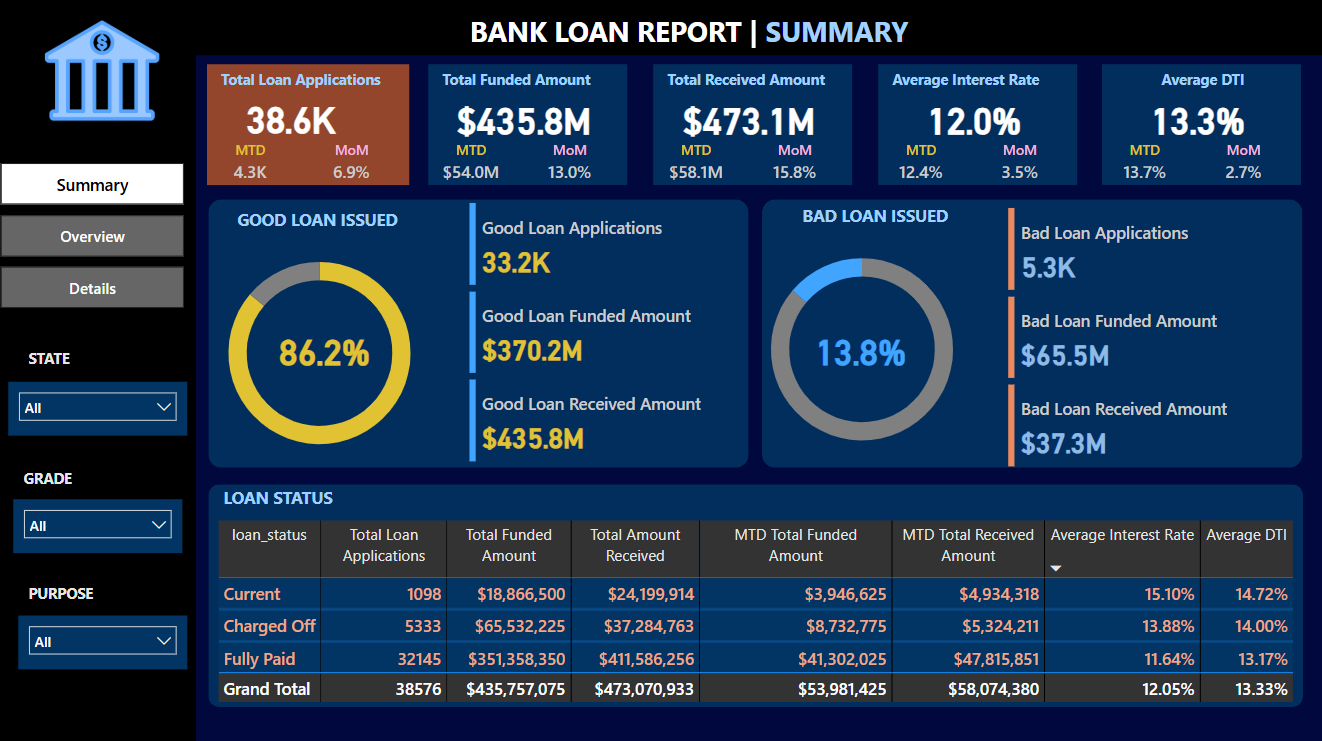

This screenshot's page, from the dashboard's own definition file:
{"tool":"powerbi","page":{"name":"Summary","canvas":[1280,720],"ordinal":0},"visuals":[{"type":"shape","box":[202.8,64.3,195.2,116.7],"z":0,"group":"g1"},{"type":"shape","box":[416,64.3,192.3,116.7],"z":0,"group":"g2"},{"type":"shape","box":[633,64.3,192.3,116.7],"z":0,"group":"g3"},{"type":"shape","box":[850,64.3,192.3,116.7],"z":0,"group":"g4"},{"type":"shape","box":[1066.9,64.4,192.3,116.7],"z":0,"group":"g5"},{"type":"shape","box":[203.6,194,521.4,259.5],"z":0},{"type":"shape","box":[0,0,1280,55.5],"z":1000},{"type":"card","fields":{"Values":["Measure Table.Total Loan Applications"]},"box":[167.9,85.4,232.1,61.9],"z":1000,"group":"g1"},{"type":"card","fields":{"Values":["Measure Table.Total Funded Amount"]},"box":[394.3,86.6,228.6,61.9],"z":1000,"group":"g2"},{"type":"card","fields":{"Values":["Measure Table.Total Amount Received"]},"box":[611.3,86.6,228.6,61.9],"z":1000,"group":"g3"},{"type":"card","fields":{"Values":["Measure Table.Average Interest Rate"]},"box":[828.3,86.6,228.6,61.9],"z":1000,"group":"g4"},{"type":"card","fields":{"Values":["Measure Table.Average DTI"]},"box":[1045.2,86.7,228.6,61.9],"z":1000,"group":"g5"},{"type":"shape","box":[0,55.5,192,665],"z":2000},{"type":"textbox","box":[211.2,64.3,195.2,34.5],"z":2000,"group":"g1"},{"type":"textbox","box":[424.2,64.3,192.3,34.5],"z":2000,"group":"g2"},{"type":"textbox","box":[641.2,64.3,192.3,34.5],"z":2000,"group":"g3"},{"type":"textbox","box":[858.2,64.3,192.3,34.5],"z":2000,"group":"g4"},{"type":"textbox","box":[1075.1,64.4,192.3,34.5],"z":2000,"group":"g5"},{"type":"card","title":"MTD","fields":{"Values":["Measure Table.MTD Loan Applications"]},"box":[211.2,138.1,66.7,42.9],"z":3000,"group":"g1"},{"type":"card","title":"MTD","fields":{"Values":["Measure Table.MTD Total Funded Amount"]},"box":[424.2,138.1,65.7,42.9],"z":3000,"group":"g2"},{"type":"card","title":"MTD","fields":{"Values":["Measure Table.MTD Total Received Amount"]},"box":[641.2,138.1,65.7,42.9],"z":3000,"group":"g3"},{"type":"card","title":"MTD","fields":{"Values":["Measure Table.MTD Interest Rate"]},"box":[858.2,138.1,65.7,42.9],"z":3000,"group":"g4"},{"type":"card","title":"MTD","fields":{"Values":["Measure Table.MTD Average DTI"]},"box":[1075.1,138.2,65.7,42.9],"z":3000,"group":"g5"},{"type":"textbox","box":[20.2,344,183.3,34.5],"z":3000},{"type":"card","title":"MoM","fields":{"Values":["Measure Table.MoM Loan Applications"]},"box":[308.8,138.1,66.7,42.9],"z":4000,"group":"g1"},{"type":"card","title":"MoM","fields":{"Values":["Measure Table.MoM Funded Amount"]},"box":[520.4,138.1,65.7,42.9],"z":4000,"group":"g2"},{"type":"card","title":"MoM","fields":{"Values":["Measure Table.MoM Received Amount"]},"box":[737.4,138.1,65.7,42.9],"z":4000,"group":"g3"},{"type":"card","title":"MoM","fields":{"Values":["Measure Table.MoM Interest Rate"]},"box":[954.4,138.1,65.7,42.9],"z":4000,"group":"g4"},{"type":"card","title":"MoM","fields":{"Values":["Measure Table.MoM Average DTI"]},"box":[1171.3,138.2,65.7,42.9],"z":4000,"group":"g5"},{"type":"card","fields":{"Values":["Measure Table.Good Loan %"]},"box":[261.9,308.3,108.3,61.9],"z":4000},{"type":"textbox","box":[451.2,8.3,447.6,47.6],"z":5000},{"type":"group","id":"g1","title":"Group 1","box":[167.9,64.3,238.1,116.7],"z":6000},{"type":"group","id":"g2","title":"Group 1","box":[394.3,64.3,228.6,116.7],"z":7000},{"type":"group","id":"g3","title":"Group 1","box":[611.3,64.3,228.6,116.7],"z":8000},{"type":"group","id":"g4","title":"Group 1","box":[828.3,64.3,228.6,116.7],"z":9000},{"type":"group","id":"g5","title":"Group 1","box":[1045.2,64.4,228.6,116.7],"z":10000},{"type":"shape","box":[738.1,194,521.4,259.5],"z":11000},{"type":"donutChart","fields":{"Category":["bank_loan_data.Good vs Bad Loan"],"Y":["Measure Table.Total Loan Applications"]},"box":[191.7,228.6,239.3,229.8],"z":12000},{"type":"cardVisual","fields":{"Data":["Measure Table.Good Loan Applications","Measure Table.Good Loan Funded Amount","Measure Table.Good Loan Received Amount"]},"box":[451.2,192.9,273.8,260.7],"z":13000},{"type":"shape","box":[203.6,469,1057.1,215.5],"z":14000},{"type":"donutChart","fields":{"Category":["bank_loan_data.Good vs Bad Loan"],"Y":["Measure Table.Total Loan Applications"]},"box":[725.1,224.4,229.2,229.2],"z":15000},{"type":"textbox","box":[757.1,194,185.7,36.9],"z":16000},{"type":"card","fields":{"Values":["Measure Table.Bad Loan %"]},"box":[779.8,308.3,108.3,61.9],"z":17000},{"type":"cardVisual","fields":{"Data":["Measure Table.Bad Loan Applications","Measure Table.Bad Loan Funded Amount","Measure Table.Bad Loan Received Amount"]},"box":[971.4,197.6,273.8,260.7],"z":18000},{"type":"tableEx","fields":{"Values":["bank_loan_data.loan_status","Measure Table.Total Loan Applications","Measure Table.Total Funded Amount","Measure Table.Total Amount Received","Measure Table.MTD Total Funded Amount","Measure Table.MTD Total Received Amount","Measure Table.Average Interest Rate","Measure Table.Average DTI"]},"box":[207.1,500,1053.6,192.9],"z":19000},{"type":"shape","box":[0,0,191.7,665.5],"z":20000},{"type":"textbox","box":[213.1,465.5,173.8,34.5],"z":21000},{"type":"slicer","fields":{"Values":["bank_loan_data.address_state"]},"box":[10.7,370.2,172.6,52.4],"z":22000},{"type":"textbox","box":[227.4,197.6,203.6,34.5],"z":23000},{"type":"textbox","box":[25,333.3,72.6,34.5],"z":24000},{"type":"slicer","fields":{"Values":["bank_loan_data.grade"]},"box":[15.5,483.3,163.1,52.4],"z":25000},{"type":"textbox","box":[20.2,448.8,72.6,34.5],"z":26000},{"type":"slicer","fields":{"Values":["bank_loan_data.purpose"]},"box":[20.2,596.4,163.1,52.4],"z":27000},{"type":"textbox","box":[25.3,559.8,86.9,33.8],"z":28000},{"type":"image","box":[39.8,8.4,123.1,123.1],"z":29000},{"type":"pageNavigator","box":[3.6,159.3,177.3,142.4],"z":30000}]}

Visuals, with their boxes in screenshot pixels (x1, y1, x2, y2), scaled from the page's 1280x720 canvas onto the 1322x741 screenshot:
shape: pyautogui.locateOnScreen(209, 66, 411, 186)
shape: pyautogui.locateOnScreen(430, 66, 628, 186)
shape: pyautogui.locateOnScreen(654, 66, 852, 186)
shape: pyautogui.locateOnScreen(878, 66, 1077, 186)
shape: pyautogui.locateOnScreen(1102, 66, 1301, 186)
shape: pyautogui.locateOnScreen(210, 200, 749, 467)
shape: pyautogui.locateOnScreen(0, 0, 1321, 57)
card - Measure Table.Total Loan Applications: pyautogui.locateOnScreen(173, 88, 413, 152)
card - Measure Table.Total Funded Amount: pyautogui.locateOnScreen(407, 89, 643, 153)
card - Measure Table.Total Amount Received: pyautogui.locateOnScreen(631, 89, 867, 153)
card - Measure Table.Average Interest Rate: pyautogui.locateOnScreen(855, 89, 1092, 153)
card - Measure Table.Average DTI: pyautogui.locateOnScreen(1079, 89, 1316, 153)
shape: pyautogui.locateOnScreen(0, 57, 198, 740)
textbox: pyautogui.locateOnScreen(218, 66, 420, 102)
textbox: pyautogui.locateOnScreen(438, 66, 637, 102)
textbox: pyautogui.locateOnScreen(662, 66, 861, 102)
textbox: pyautogui.locateOnScreen(886, 66, 1085, 102)
textbox: pyautogui.locateOnScreen(1110, 66, 1309, 102)
"MTD" card: pyautogui.locateOnScreen(218, 142, 287, 186)
"MTD" card: pyautogui.locateOnScreen(438, 142, 506, 186)
"MTD" card: pyautogui.locateOnScreen(662, 142, 730, 186)
"MTD" card: pyautogui.locateOnScreen(886, 142, 954, 186)
"MTD" card: pyautogui.locateOnScreen(1110, 142, 1178, 186)
textbox: pyautogui.locateOnScreen(21, 354, 210, 390)
"MoM" card: pyautogui.locateOnScreen(319, 142, 388, 186)
"MoM" card: pyautogui.locateOnScreen(537, 142, 605, 186)
"MoM" card: pyautogui.locateOnScreen(762, 142, 829, 186)
"MoM" card: pyautogui.locateOnScreen(986, 142, 1054, 186)
"MoM" card: pyautogui.locateOnScreen(1210, 142, 1278, 186)
card - Measure Table.Good Loan %: pyautogui.locateOnScreen(270, 317, 382, 381)
textbox: pyautogui.locateOnScreen(466, 9, 928, 58)
"Group 1" group: pyautogui.locateOnScreen(173, 66, 419, 186)
"Group 1" group: pyautogui.locateOnScreen(407, 66, 643, 186)
"Group 1" group: pyautogui.locateOnScreen(631, 66, 867, 186)
"Group 1" group: pyautogui.locateOnScreen(855, 66, 1092, 186)
"Group 1" group: pyautogui.locateOnScreen(1079, 66, 1316, 186)
shape: pyautogui.locateOnScreen(762, 200, 1301, 467)
donutChart - bank_loan_data.Good vs Bad Loan x Measure Table.Total Loan Applications: pyautogui.locateOnScreen(198, 235, 445, 472)
cardVisual - Measure Table.Good Loan Applications x Measure Table.Good Loan Funded Amount: pyautogui.locateOnScreen(466, 199, 749, 467)
shape: pyautogui.locateOnScreen(210, 483, 1302, 704)
donutChart - bank_loan_data.Good vs Bad Loan x Measure Table.Total Loan Applications: pyautogui.locateOnScreen(749, 231, 986, 467)
textbox: pyautogui.locateOnScreen(782, 200, 974, 238)
card - Measure Table.Bad Loan %: pyautogui.locateOnScreen(805, 317, 917, 381)
cardVisual - Measure Table.Bad Loan Applications x Measure Table.Bad Loan Funded Amount: pyautogui.locateOnScreen(1003, 203, 1286, 472)
tableEx - bank_loan_data.loan_status x Measure Table.Total Loan Applications: pyautogui.locateOnScreen(214, 515, 1302, 713)
shape: pyautogui.locateOnScreen(0, 0, 198, 685)
textbox: pyautogui.locateOnScreen(220, 479, 400, 515)
slicer - bank_loan_data.address_state: pyautogui.locateOnScreen(11, 381, 189, 435)
textbox: pyautogui.locateOnScreen(235, 203, 445, 239)
textbox: pyautogui.locateOnScreen(26, 343, 101, 379)
slicer - bank_loan_data.grade: pyautogui.locateOnScreen(16, 497, 184, 551)
textbox: pyautogui.locateOnScreen(21, 462, 96, 497)
slicer - bank_loan_data.purpose: pyautogui.locateOnScreen(21, 614, 189, 668)
textbox: pyautogui.locateOnScreen(26, 576, 116, 611)
image: pyautogui.locateOnScreen(41, 9, 168, 135)
pageNavigator: pyautogui.locateOnScreen(4, 164, 187, 310)
